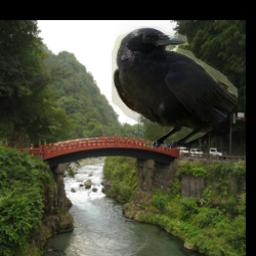Crow: (113, 27, 239, 149)
